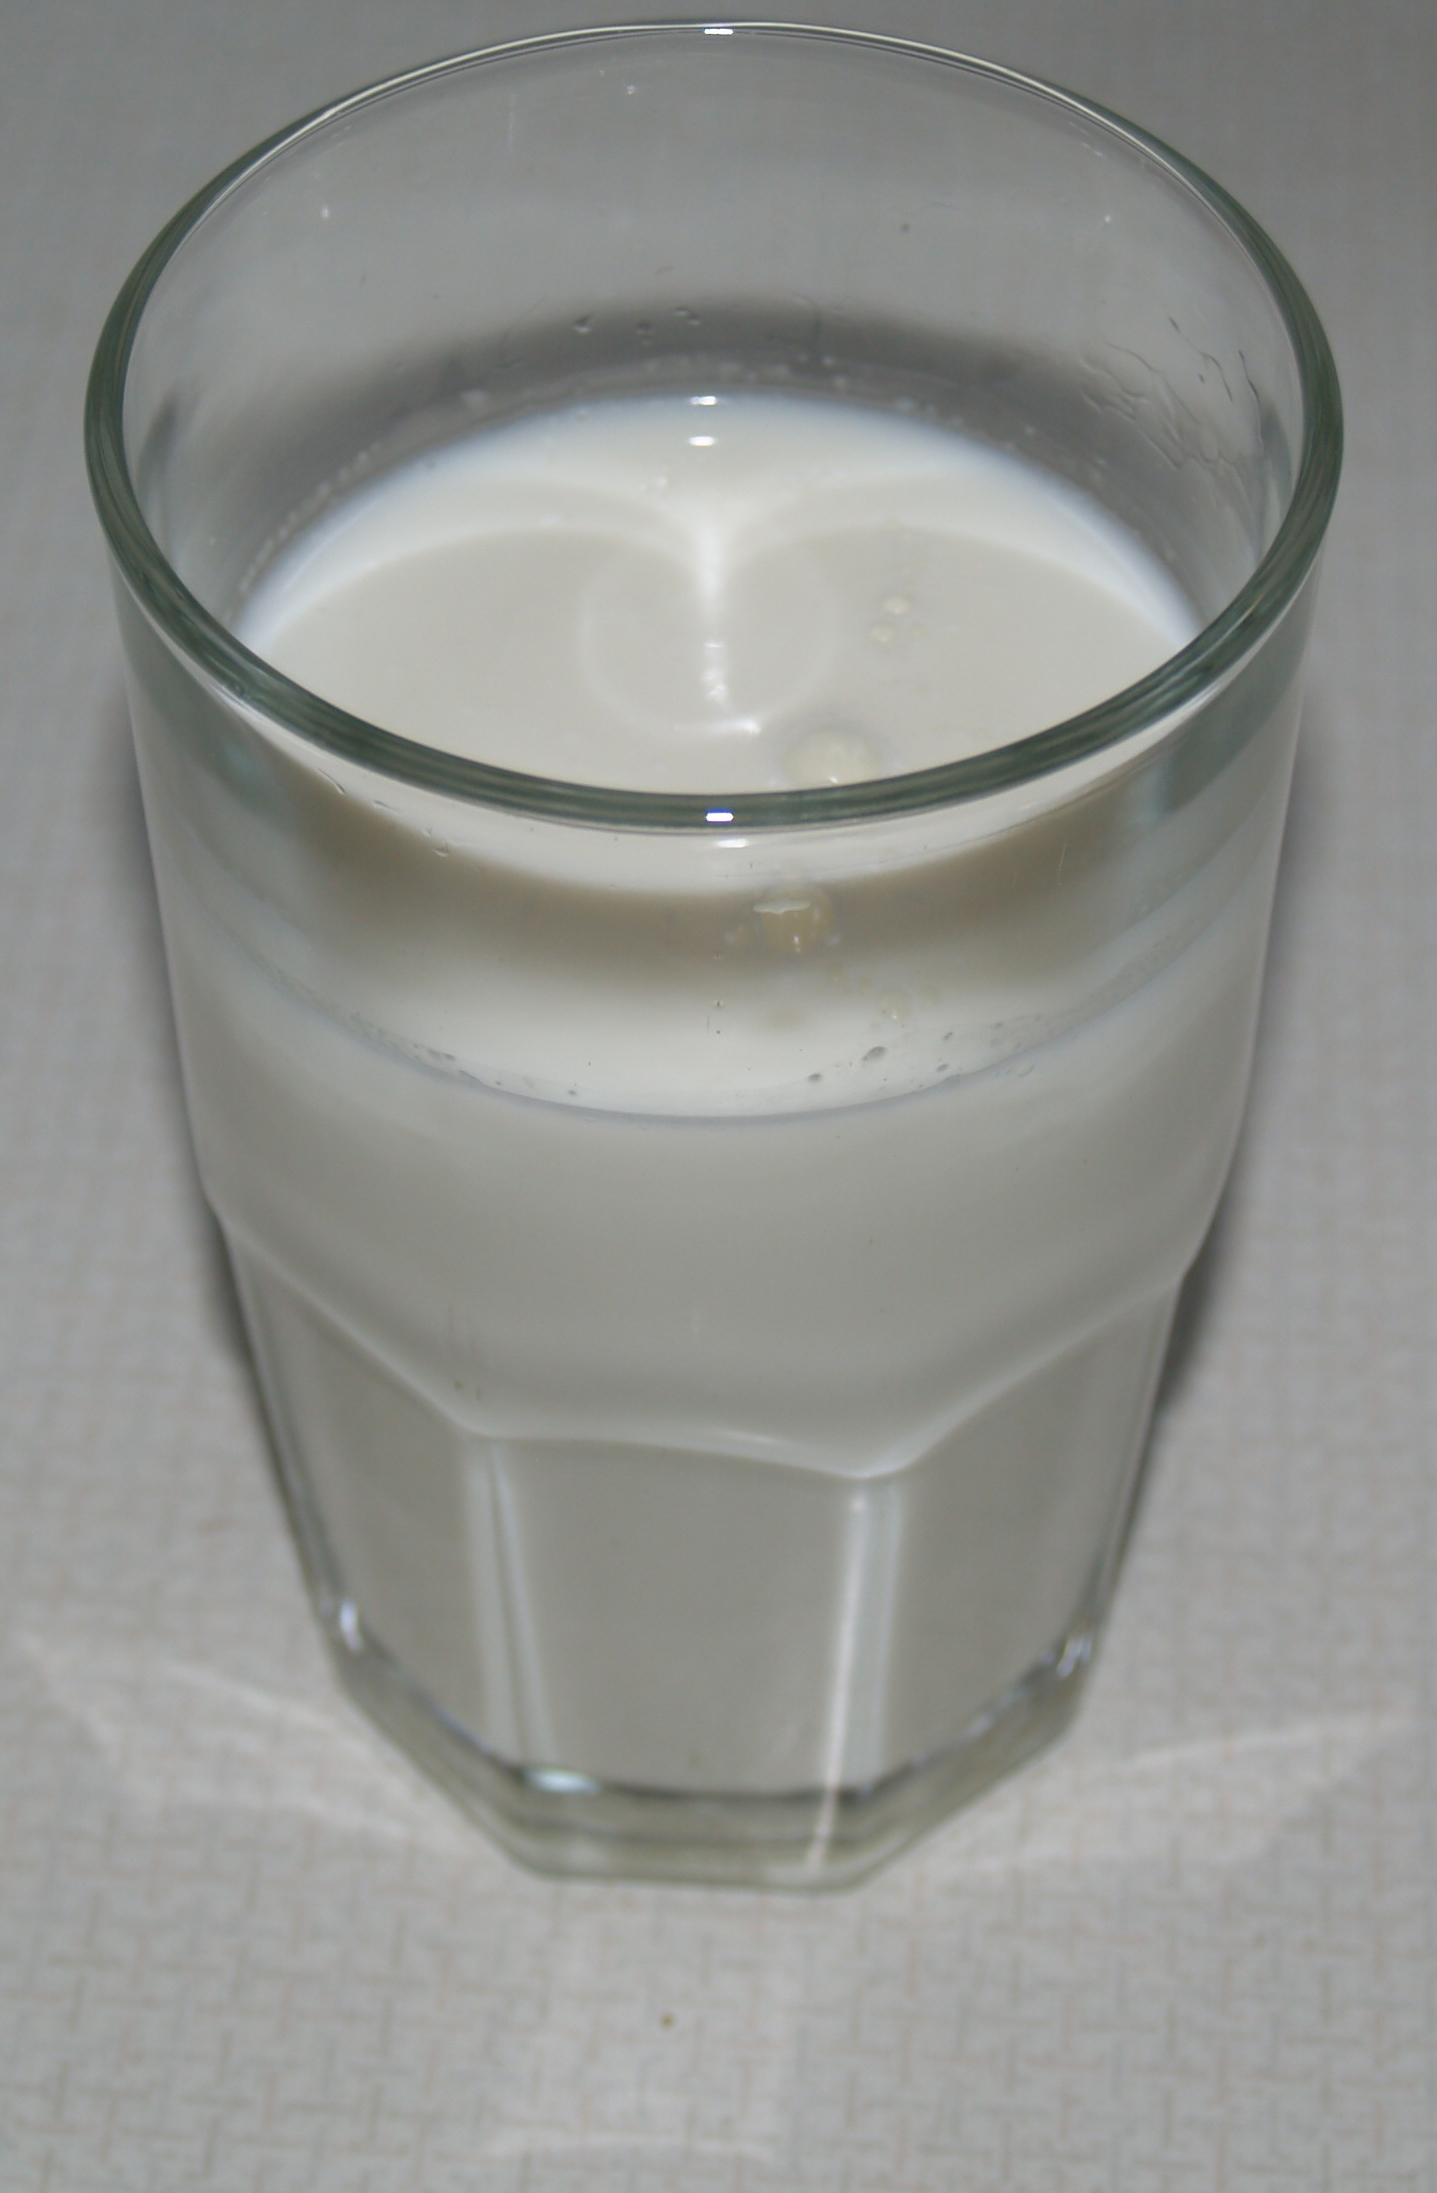glass of milk: (218, 204, 1180, 1776)
